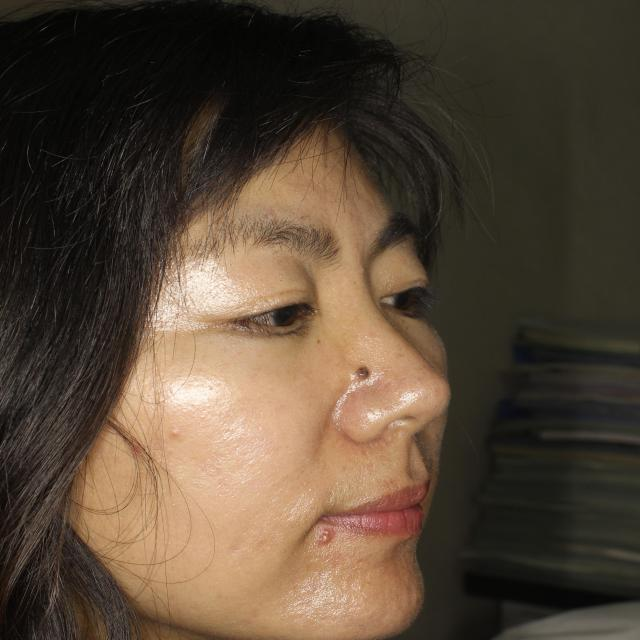acne: (301, 529, 344, 559)
